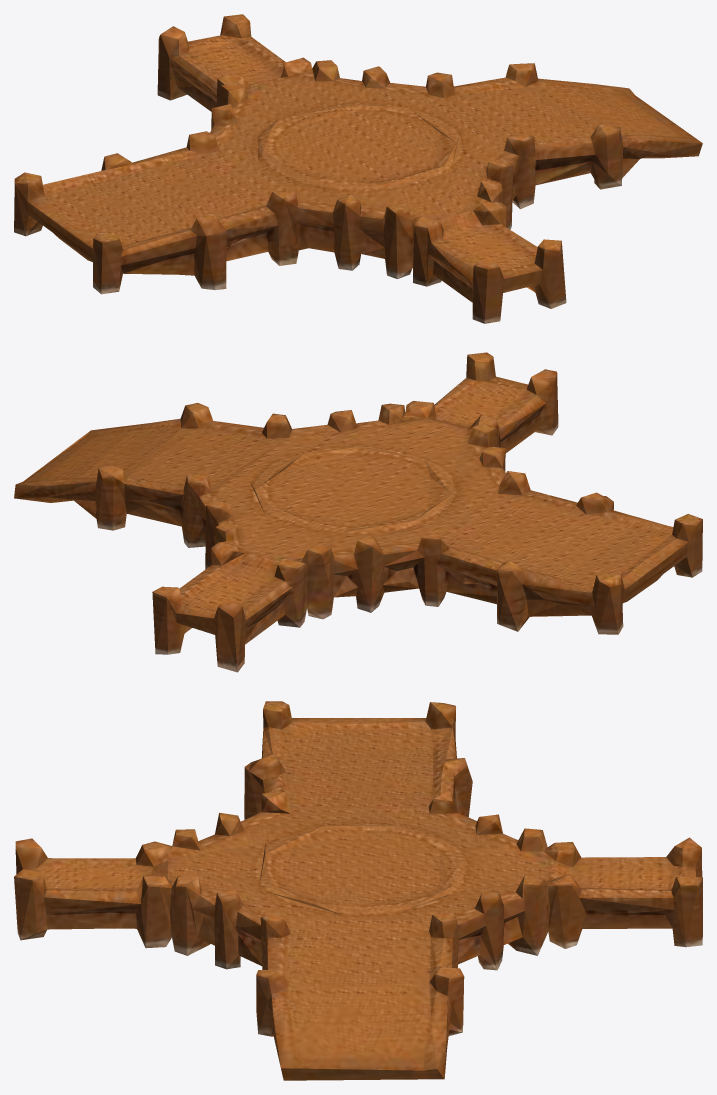
File: meshy_dock_circular_wood_lod0.glb
3 views of the same model, one above another, from view 1: azimuth 30°, elevation 25°; view 2: azimuth 150°, elevation 25°; view 3: azimuth 270°, elevation 25° (orthographic). The views are drawn at different scales.
Visible parts, largest first — view 1: meshy_dock_circular_wood; view 2: meshy_dock_circular_wood; view 3: meshy_dock_circular_wood.
Boxes of the visible parts, x1=… form: meshy_dock_circular_wood: x1=14, y1=14, x2=702, y2=323; meshy_dock_circular_wood: x1=14, y1=352, x2=702, y2=672; meshy_dock_circular_wood: x1=14, y1=701, x2=702, y2=1080.
Bounding box in the file's own units: 11.01 × 1.2 × 10.26.
1 material, 1 textured.
